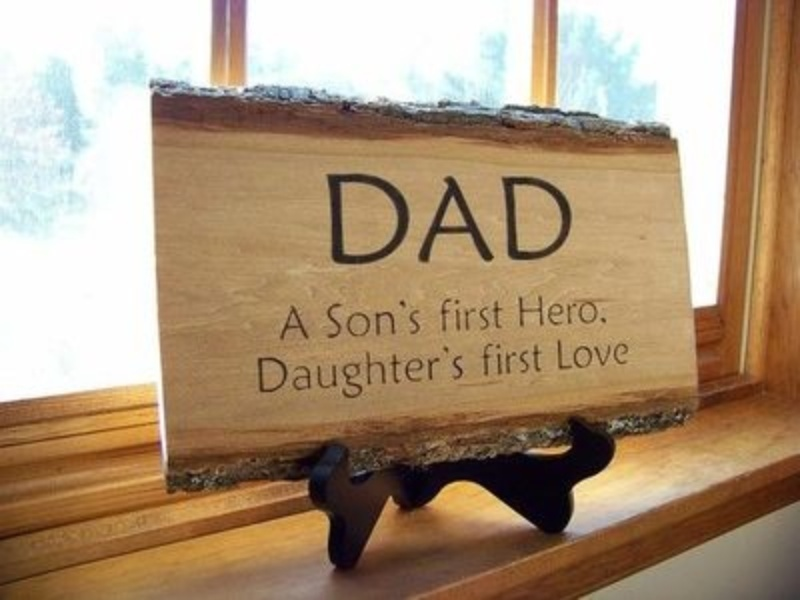text: (337, 171, 352, 267), (353, 171, 368, 267), (369, 171, 384, 267), (385, 171, 400, 267), (401, 171, 416, 267), (417, 171, 432, 267), (433, 171, 448, 267), (449, 171, 464, 267), (465, 171, 480, 267), (481, 171, 496, 267), (497, 171, 512, 267), (513, 171, 528, 267), (529, 171, 544, 267), (545, 171, 560, 267), (323, 171, 336, 267), (561, 171, 573, 267), (257, 345, 272, 409), (273, 345, 288, 409), (289, 345, 304, 409), (305, 345, 320, 409), (321, 345, 336, 409), (337, 345, 352, 409), (353, 345, 368, 409), (369, 345, 384, 409), (385, 345, 400, 409), (401, 345, 416, 409), (417, 345, 432, 409), (433, 345, 448, 409), (449, 345, 464, 409), (337, 299, 352, 341), (353, 299, 368, 341), (369, 299, 384, 341), (385, 299, 400, 341), (401, 299, 416, 341), (481, 341, 496, 379), (497, 341, 512, 379), (513, 341, 528, 379), (289, 305, 304, 342), (449, 297, 464, 333), (465, 297, 480, 333), (481, 297, 496, 333), (529, 341, 543, 379), (529, 295, 544, 329), (545, 295, 560, 329), (561, 295, 576, 329), (577, 295, 592, 329), (561, 339, 576, 371), (577, 339, 592, 371), (593, 339, 608, 371), (609, 339, 624, 371), (593, 295, 607, 329), (325, 299, 336, 341), (517, 295, 528, 329), (279, 305, 288, 342), (497, 297, 505, 333), (417, 299, 423, 341), (441, 297, 448, 333), (305, 305, 311, 342), (625, 339, 631, 371), (465, 345, 467, 409), (557, 339, 560, 371)
